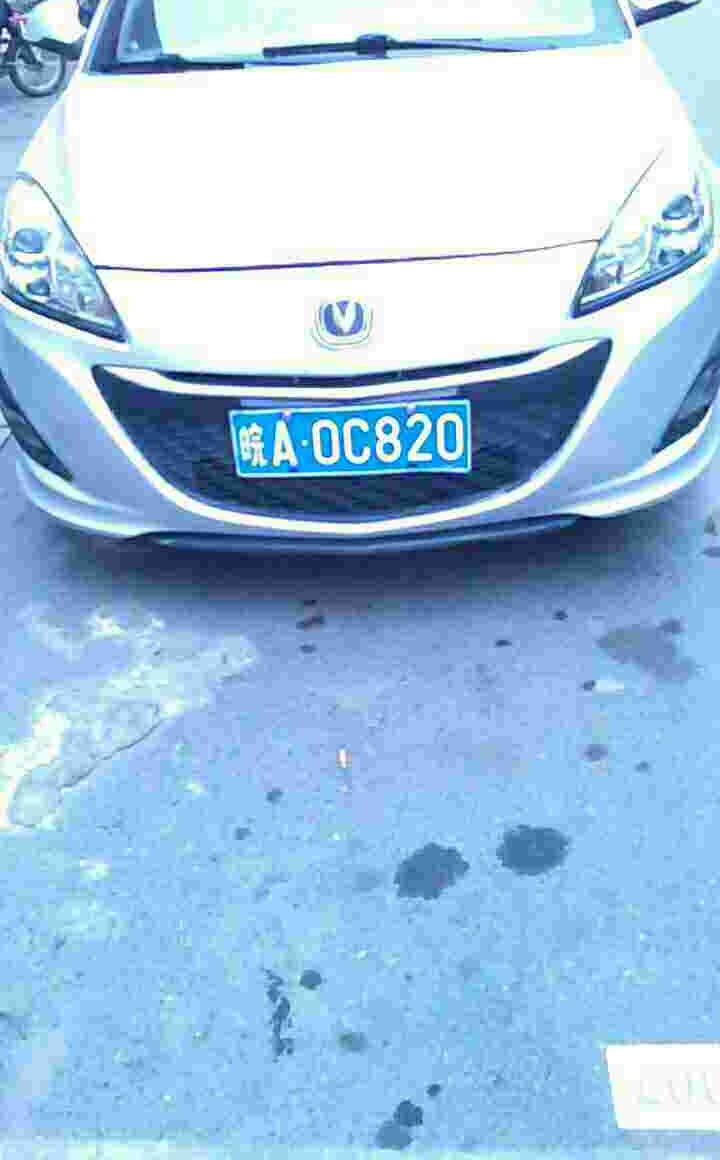plate: (232, 399, 477, 482)
